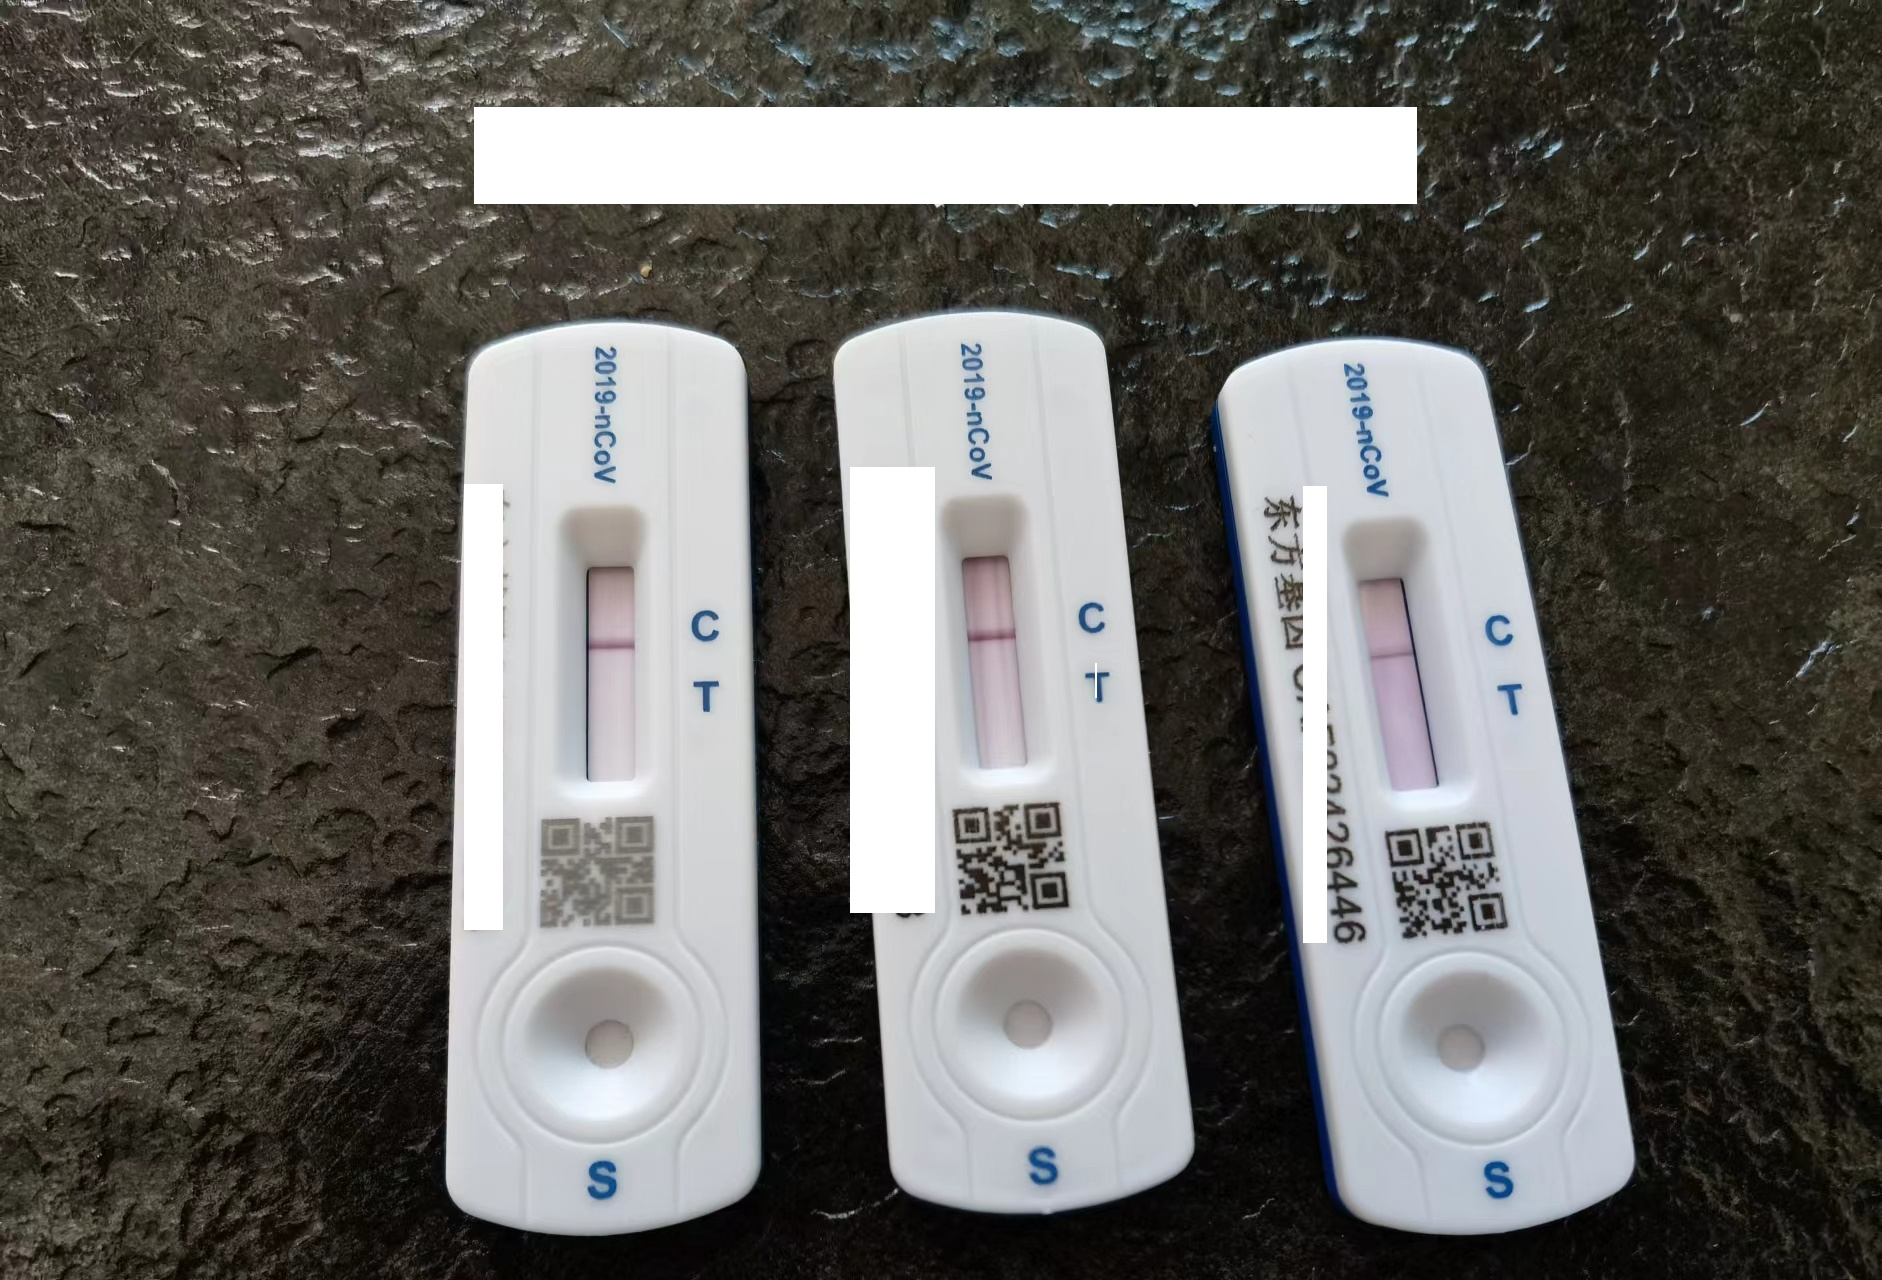negative: (1339, 523, 1459, 817), (945, 506, 1050, 794), (563, 509, 651, 814)
